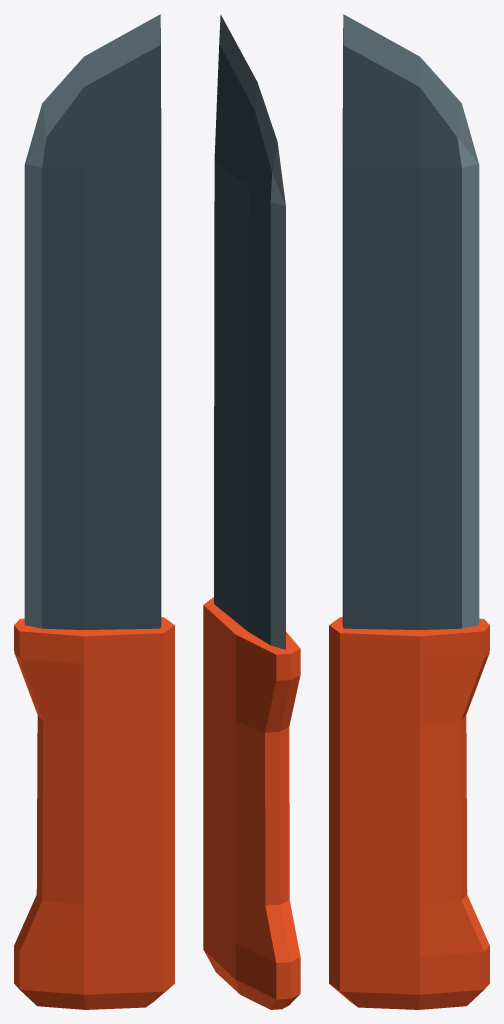
The model's file is Knife_01.obj.
The picture shows the model from 3 angles, left to right: view 1: azimuth 90°, elevation 25°; view 2: azimuth 210°, elevation 25°; view 3: azimuth 270°, elevation 25°; orthographic projection. The views are drawn at different scales.
Visible parts, largest first — view 1: Knife_Circle.028; view 2: Knife_Circle.028; view 3: Knife_Circle.028.
Boxes of the visible parts, bbox=[...] form: Knife_Circle.028: bbox=[14, 14, 174, 1009]; Knife_Circle.028: bbox=[203, 14, 300, 1009]; Knife_Circle.028: bbox=[329, 14, 489, 1009].
Bounding box in the file's own units: 0.4964 × 10.24 × 1.51.
